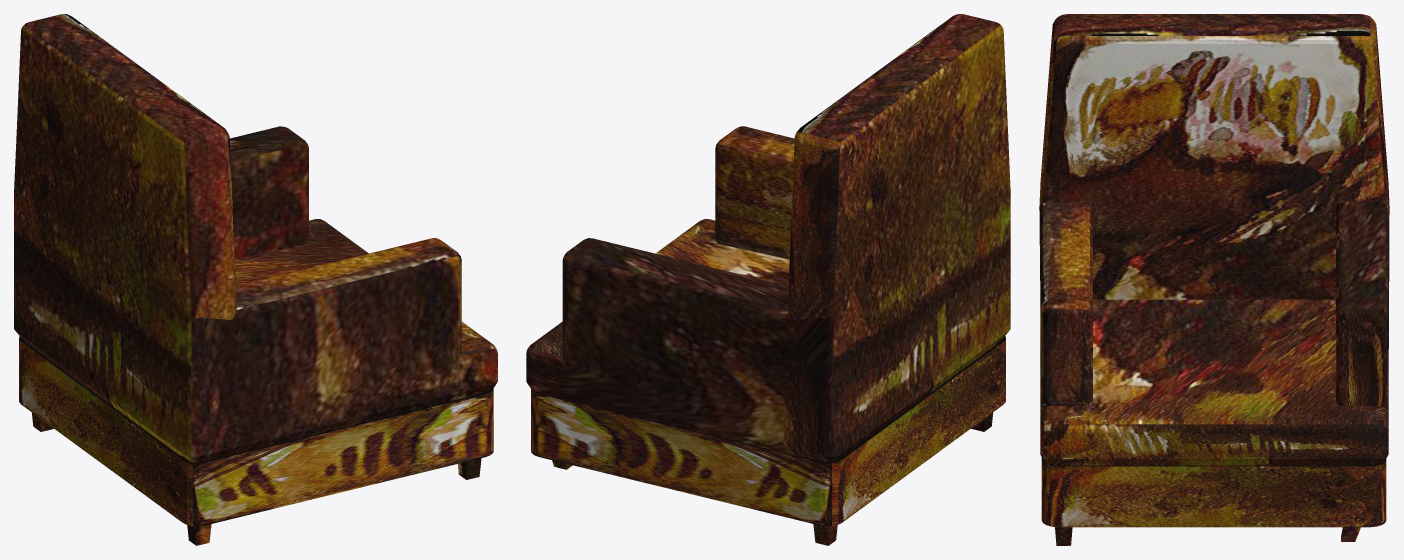
The model's file is fauteuiltxt.glb.
3 views of the same model, side by side, from view 1: azimuth 30°, elevation 25°; view 2: azimuth 150°, elevation 25°; view 3: azimuth 270°, elevation 25° (orthographic). The views are drawn at different scales.
Parts seen in each view (by area): view 1: Cube.003, Cube, Cube.001; view 2: Cube.003, Cube, Cube.001; view 3: Cube.003, Cube, Cube.001.
Part boxes in pixels (<box>): Cube.003: <box>14,14,497,462</box>; Cube: <box>19,336,493,526</box>; Cube.001: <box>32,413,481,545</box>; Cube.003: <box>526,14,1010,462</box>; Cube: <box>531,336,1005,526</box>; Cube.001: <box>552,412,993,545</box>; Cube.003: <box>1039,14,1389,465</box>; Cube: <box>1041,457,1386,527</box>; Cube.001: <box>1055,527,1360,545</box>.
Bounding box in the file's own units: 2.02 × 2.53 × 2.03.
1 material, 1 textured.
